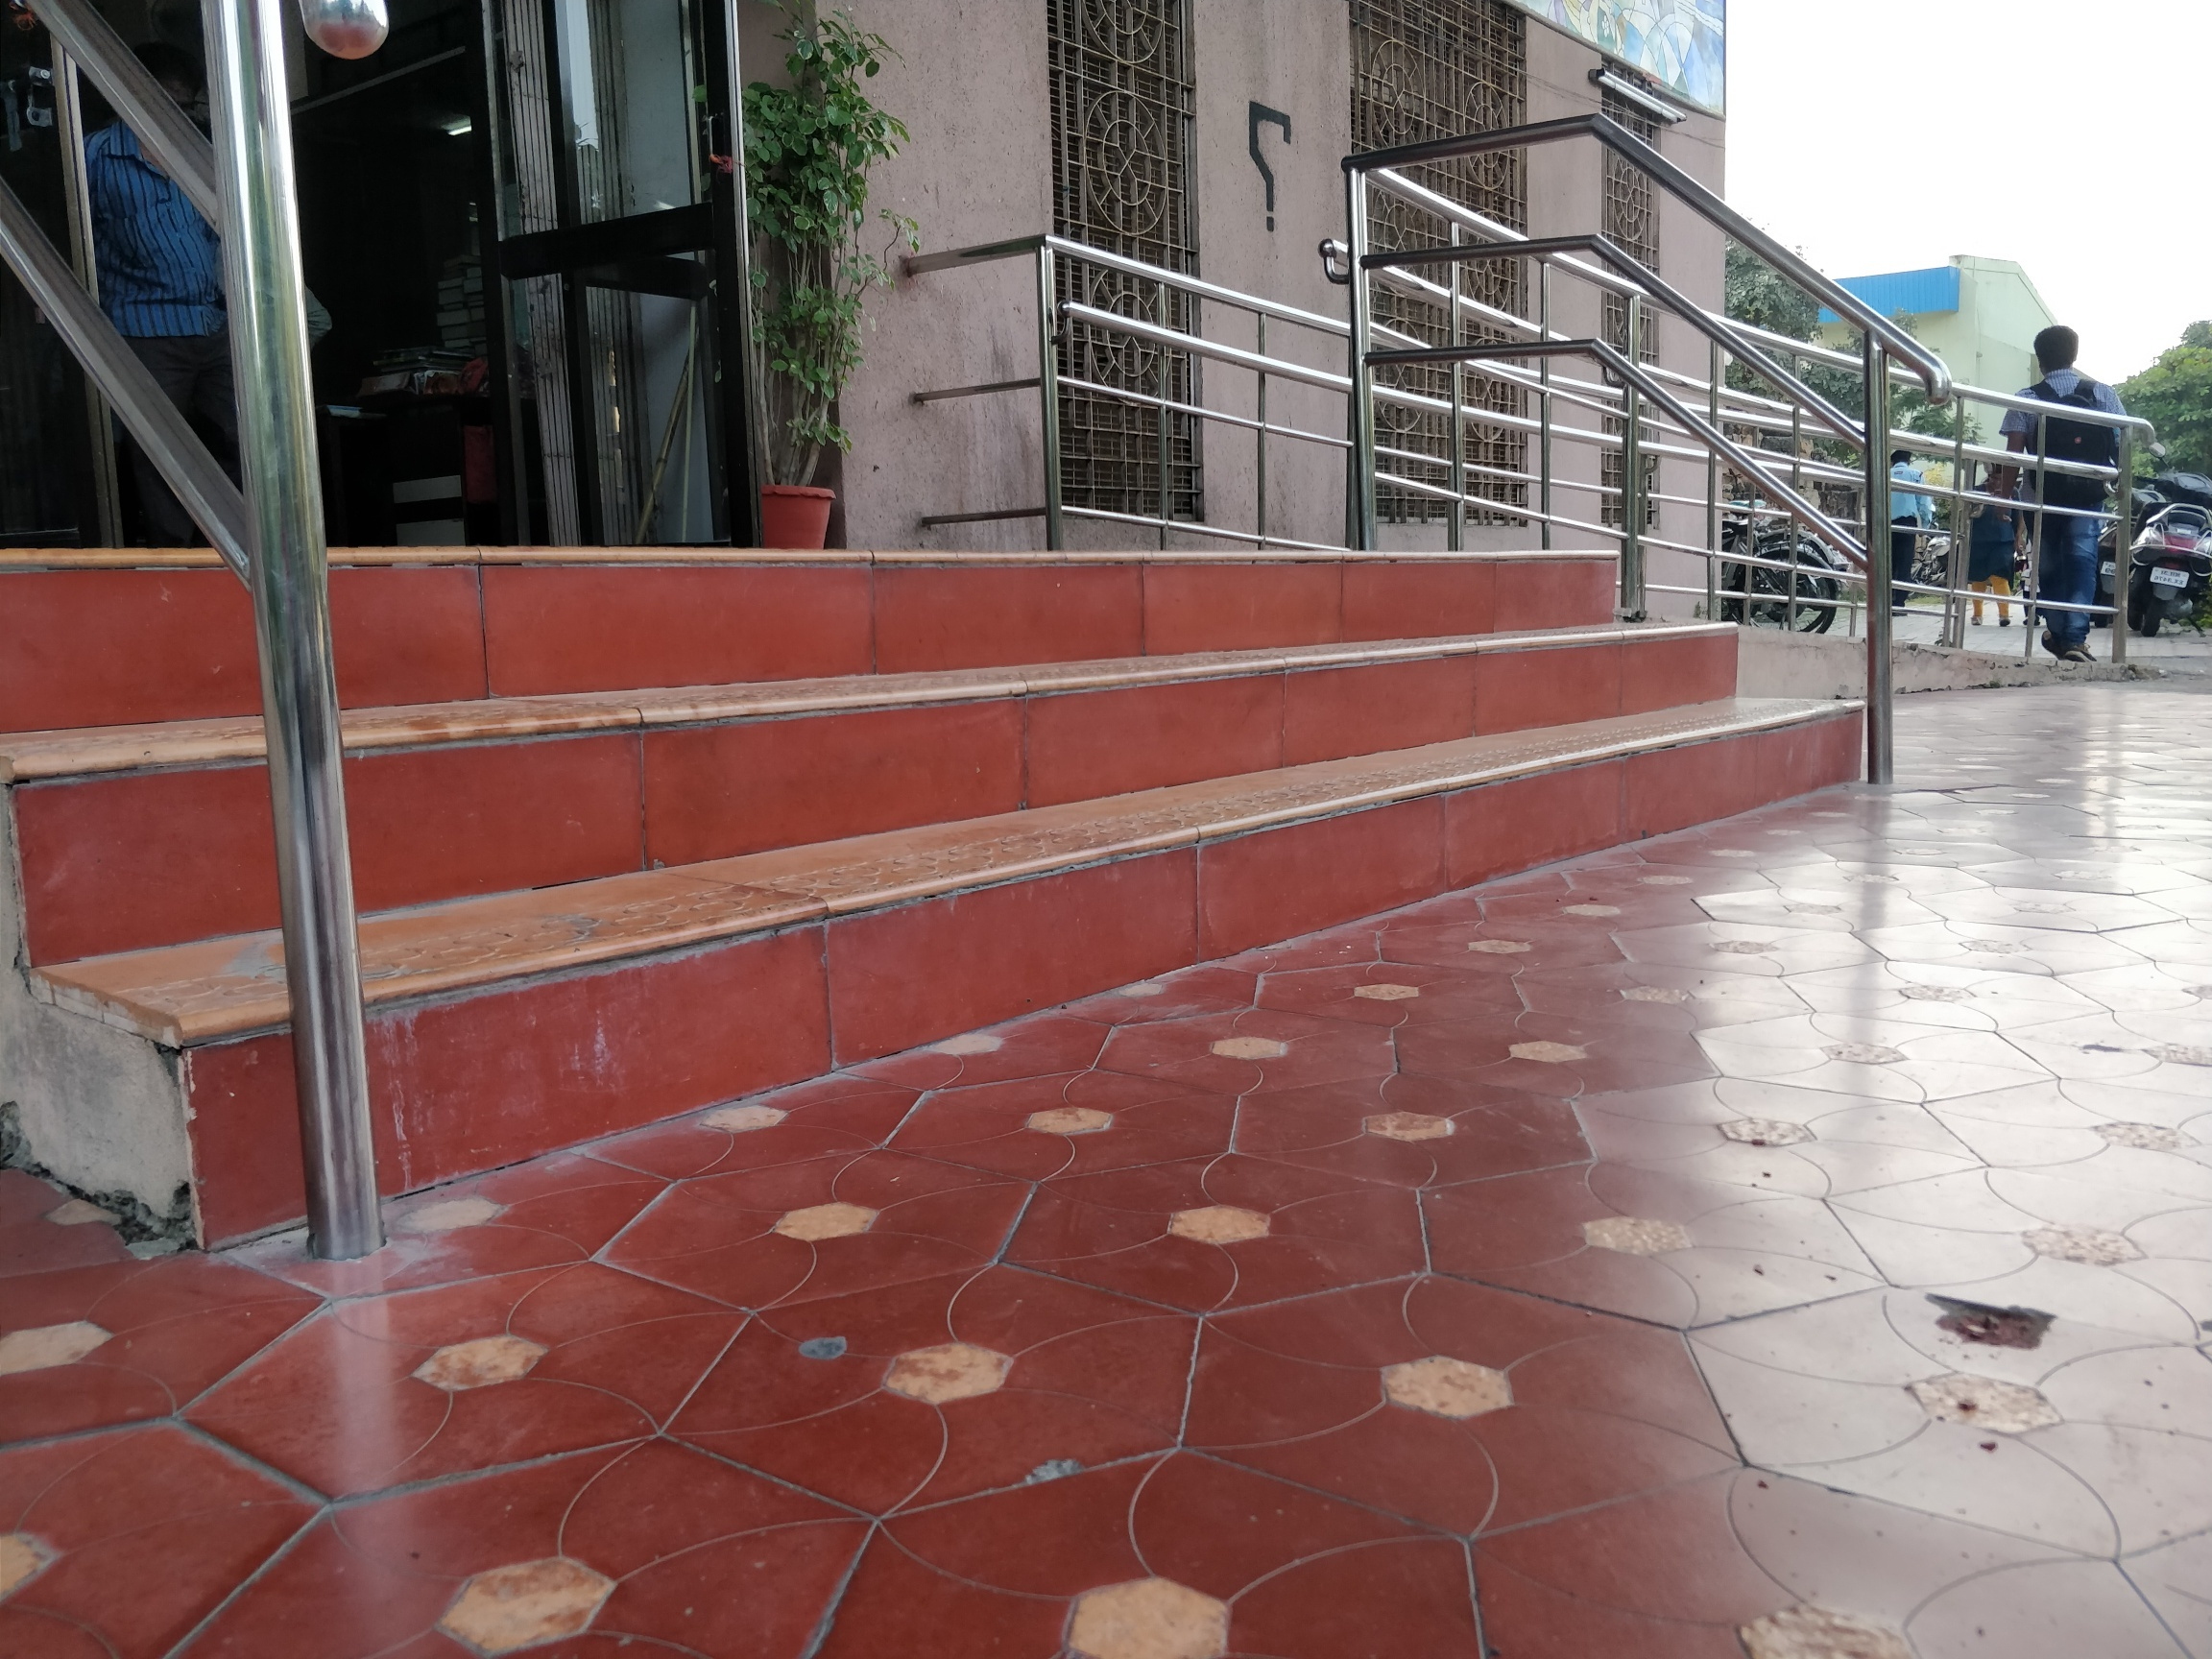stairs_up: (45, 507, 1829, 1147)
